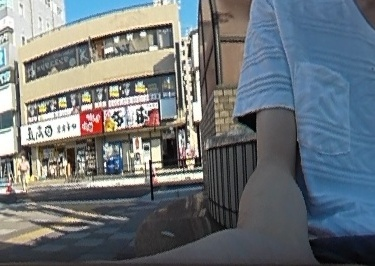person: (17, 153, 29, 191)
